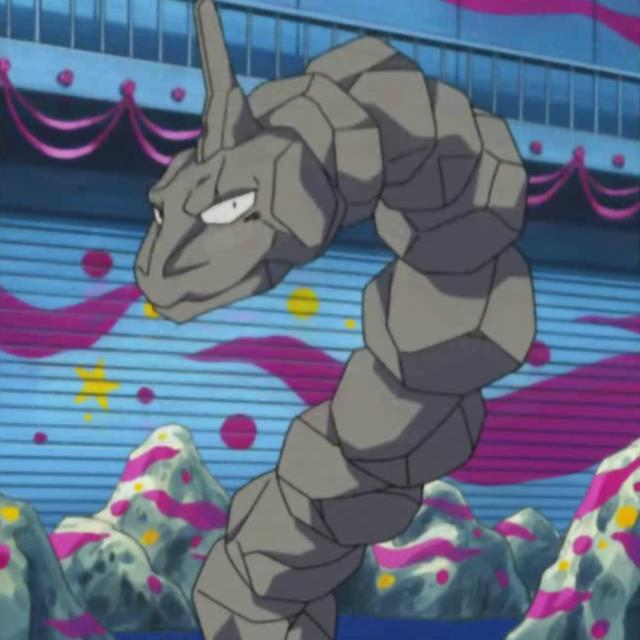Onix: (108, 2, 530, 640)
